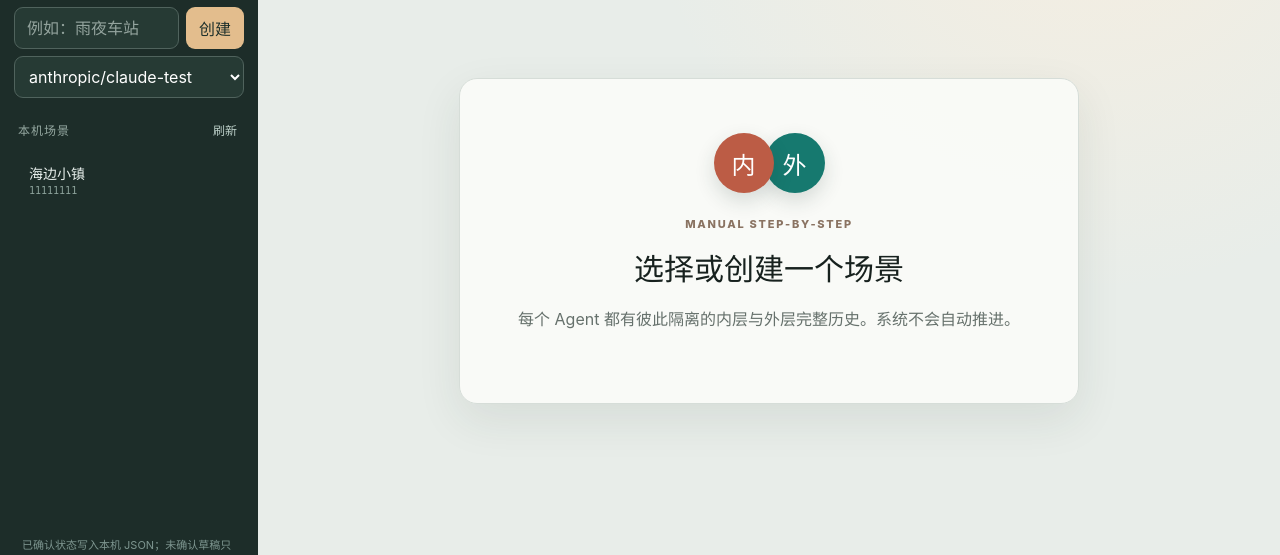
it: App › opens scenes from any valid current-major schema
Click the button "海边小镇 11111111". click: [113, 180]
box: [19,154,207,205]
(page scrolled)
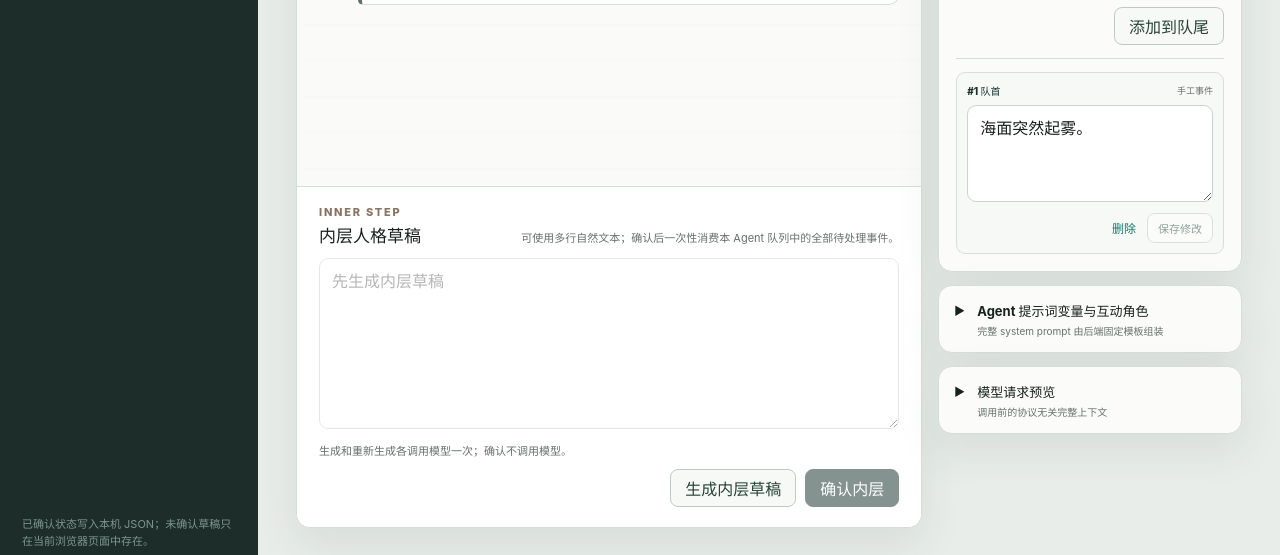
Now the button "生成内层草稿" is enabled, box [670,469,796,507]
